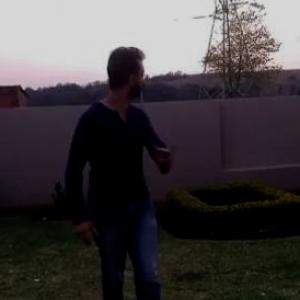takeoff-hand: (148, 130, 180, 174)
